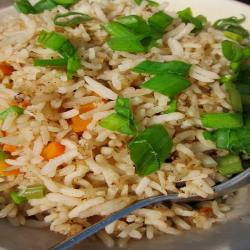rice: (10, 16, 196, 217)
